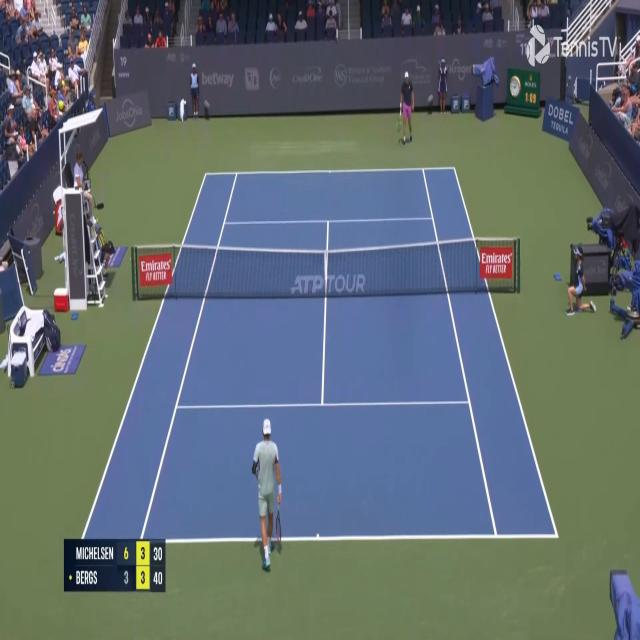tennis-player: (250, 416, 284, 574), (395, 70, 414, 145)
